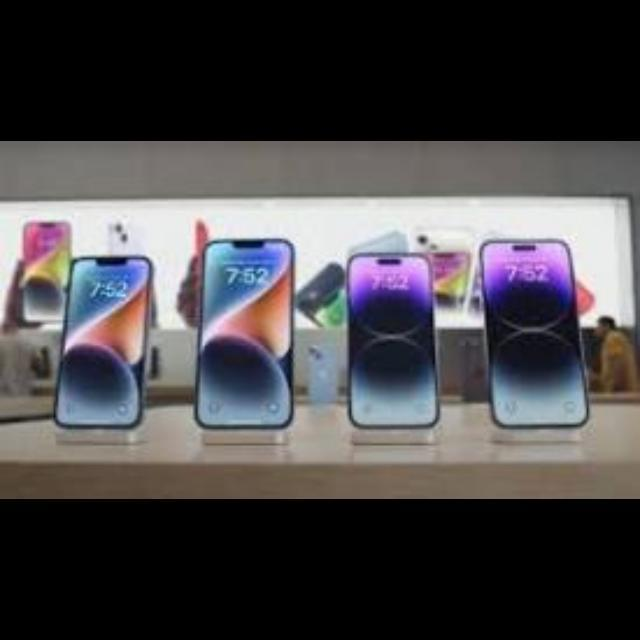phone: (467, 227, 598, 456), (326, 238, 452, 458), (183, 230, 302, 456), (51, 228, 159, 462)
